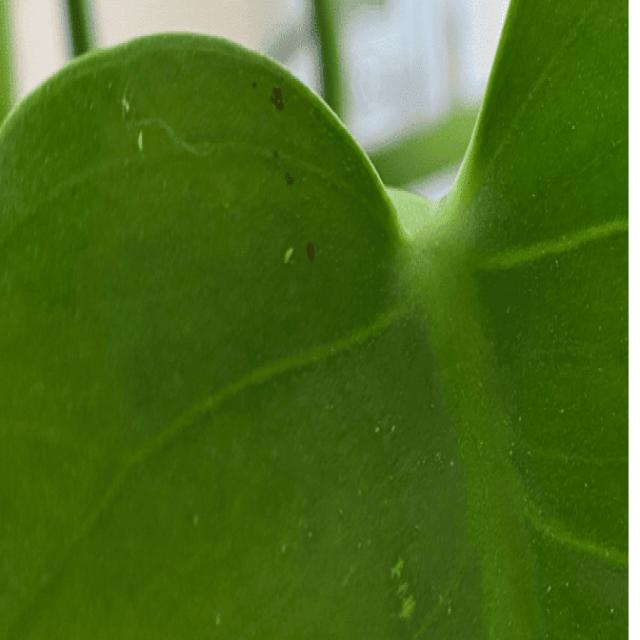Thrip-Larva-: (276, 242, 300, 268), (133, 124, 151, 156)
